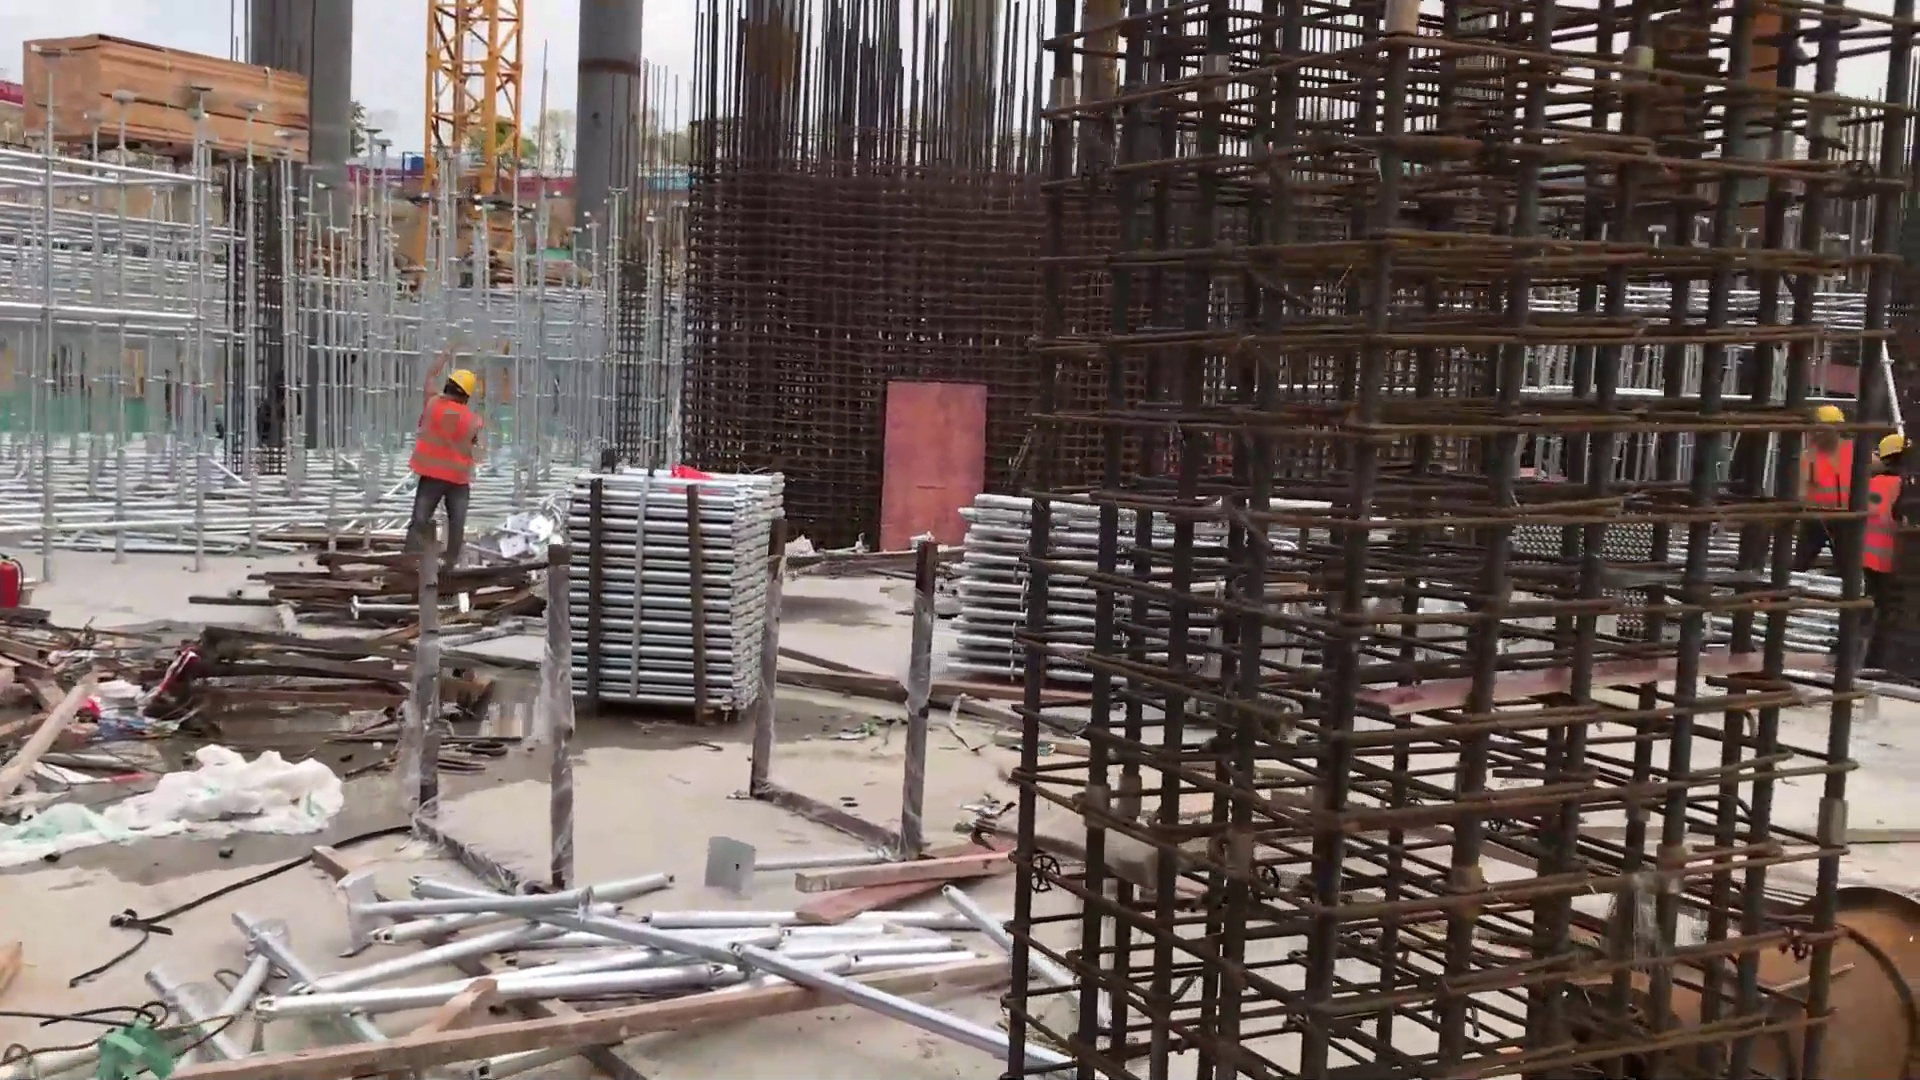board: (873, 366, 998, 560)
helmet: (1811, 394, 1851, 440), (442, 360, 476, 405), (1876, 424, 1909, 457)
person: (408, 347, 483, 567), (1860, 423, 1915, 629), (1805, 399, 1858, 583)
scaffold: (542, 463, 788, 717), (954, 493, 1143, 691)
vest: (408, 398, 473, 490), (1865, 468, 1908, 583), (1805, 434, 1855, 533)
